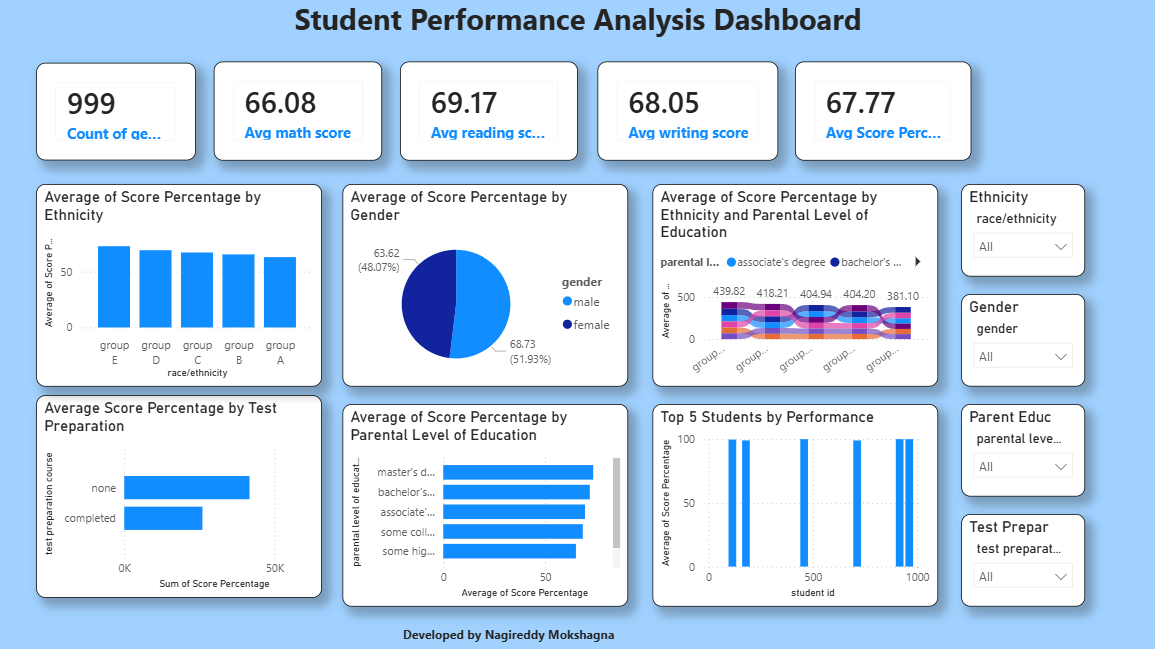

The page's visual inventory and layout, read from the dashboard file:
{"tool":"powerbi","page":{"name":"Page 1","canvas":[1280,720],"ordinal":0},"visuals":[{"type":"cardVisual","fields":{"Data":["Avg(StudentsPerformance.math score)"]},"box":[240,73.8,185,108.8],"z":0},{"type":"cardVisual","fields":{"Data":["Avg(StudentsPerformance.reading score)"]},"box":[445,73.8,195,108.8],"z":1000},{"type":"cardVisual","fields":{"Data":["Avg(StudentsPerformance.writing score)"]},"box":[661.2,73.8,198.8,108.8],"z":2000},{"type":"pieChart","title":"Average of Score Percentage by Gender","fields":{"Category":["StudentsPerformance.gender"],"Y":["Avg(StudentsPerformance.math score)"]},"box":[381.2,208.8,313.8,222.5],"z":3000},{"type":"clusteredBarChart","title":" Average Score Percentage by Test Preparation","fields":{"Y":["Sum(StudentsPerformance.Score Percentage)"],"Category":["StudentsPerformance.test preparation course"]},"box":[45,440,313.8,222.5],"z":4000},{"type":"textbox","box":[0,0,1280.3,68.6],"z":5000},{"type":"ribbonChart","title":"Average of Score Percentage by Ethnicity and Parental Level of Education","fields":{"Category":["StudentsPerformance.race/ethnicity"],"Y":["Avg(StudentsPerformance.Score Percentage)"],"Series":["StudentsPerformance.parental level of education"]},"box":[721.2,208.8,313.8,222.5],"z":6000},{"type":"cardVisual","fields":{"Data":["CountNonNull(StudentsPerformance.gender)"]},"box":[45,75,175,107.5],"z":7000},{"type":"cardVisual","fields":{"Data":["Avg(StudentsPerformance.Score Percentage)"]},"box":[878.8,73.8,193.8,108.8],"z":8000},{"type":"clusteredColumnChart","title":"Average of Score Percentage by Ethnicity","fields":{"Category":["StudentsPerformance.race/ethnicity"],"Y":["Avg(StudentsPerformance.Score Percentage)"]},"box":[45,208.8,313.8,222.5],"z":9000},{"type":"clusteredBarChart","title":"Average of Score Percentage by Parental Level of Education","fields":{"Category":["StudentsPerformance.parental level of education"],"Y":["Avg(StudentsPerformance.Score Percentage)"]},"box":[381.2,450,313.8,222.5],"z":10000},{"type":"clusteredColumnChart","title":"Top 5 Students by Performance","fields":{"Category":["StudentsPerformance.student id"],"Y":["Avg(StudentsPerformance.Score Percentage)"]},"box":[721.2,450,313.8,222.5],"z":11000},{"type":"slicer","title":"Ethnicity","fields":{"Values":["StudentsPerformance.race/ethnicity"]},"box":[1060.7,208.6,135.8,101.5],"z":12000},{"type":"slicer","title":"Gender","fields":{"Values":["StudentsPerformance.gender"]},"box":[1060.7,329.3,135.8,101.5],"z":13000},{"type":"slicer","title":"Parent Educ","fields":{"Values":["StudentsPerformance.parental level of education"]},"box":[1060.7,450.1,135.8,101.5],"z":14000},{"type":"slicer","title":"Test Prepar","fields":{"Values":["StudentsPerformance.test preparation course"]},"box":[1060.7,570.8,135.8,101.5],"z":15000},{"type":"textbox","box":[220,688.8,688.8,31.2],"z":16000}]}

Visuals, with their boxes in screenshot pixels (x1, y1, x2, y2), scaled from the page's 1280x720 canvas onto the 1155x649 screenshot:
cardVisual - Avg(StudentsPerformance.math score): l=217, t=67, r=383, b=165
cardVisual - Avg(StudentsPerformance.reading score): l=402, t=67, r=578, b=165
cardVisual - Avg(StudentsPerformance.writing score): l=597, t=67, r=776, b=165
"Average of Score Percentage by Gender" pieChart: l=344, t=188, r=627, b=389
" Average Score Percentage by Test Preparation" clusteredBarChart: l=41, t=397, r=324, b=597
textbox: l=0, t=0, r=1154, b=62
"Average of Score Percentage by Ethnicity and Parental Level of Education" ribbonChart: l=651, t=188, r=934, b=389
cardVisual - CountNonNull(StudentsPerformance.gender): l=41, t=68, r=199, b=165
cardVisual - Avg(StudentsPerformance.Score Percentage): l=793, t=67, r=968, b=165
"Average of Score Percentage by Ethnicity" clusteredColumnChart: l=41, t=188, r=324, b=389
"Average of Score Percentage by Parental Level of Education" clusteredBarChart: l=344, t=406, r=627, b=606
"Top 5 Students by Performance" clusteredColumnChart: l=651, t=406, r=934, b=606
"Ethnicity" slicer: l=957, t=188, r=1080, b=280
"Gender" slicer: l=957, t=297, r=1080, b=388
"Parent Educ" slicer: l=957, t=406, r=1080, b=497
"Test Prepar" slicer: l=957, t=515, r=1080, b=606
textbox: l=199, t=621, r=820, b=648
